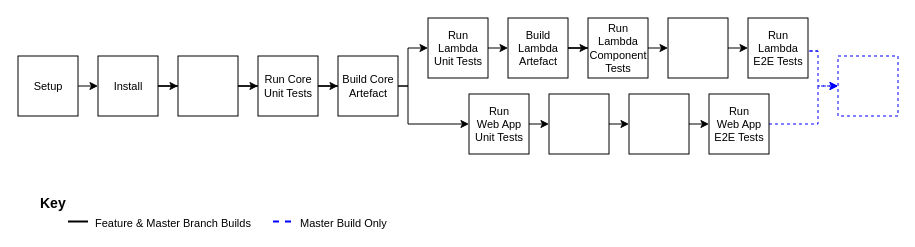
Image size: 915x247. Some labels were removed from this diagram. The shapes that lost their labels are listed below. From the top down, each one's centre as x and y in pixels, then its label:
At point (697, 47): "Run Lambda Integration Tests".
At point (207, 85): "Lint".
At point (867, 85): "Release".
At point (578, 123): "Build Web App Artefact".
At point (658, 123): "Run Web App Integration Tests".
